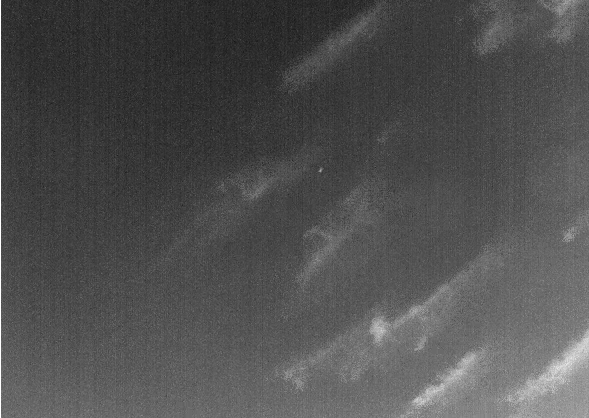dim target: (315, 166, 324, 174)
